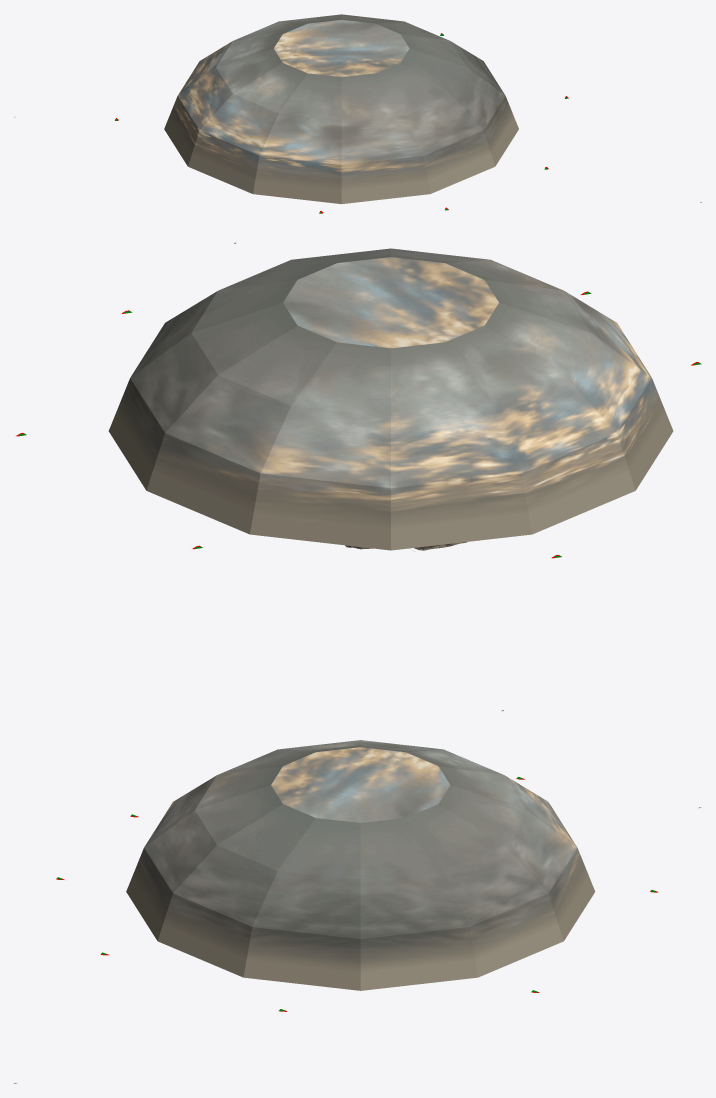
Rendered from recovered_map_mp6.glb.
The picture shows the model from 3 angles, top to bottom: view 1: azimuth 30°, elevation 25°; view 2: azimuth 150°, elevation 25°; view 3: azimuth 270°, elevation 25°; orthographic projection. The views are drawn at different scales.
Visible parts, largest first — view 1: S_gen_cloud_n_sun_256x256; view 2: S_gen_cloud_n_sun_256x256; view 3: S_gen_cloud_n_sun_256x256.
Boxes of the visible parts, x1,y1,x2,y2 form: S_gen_cloud_n_sun_256x256: (164, 14, 518, 204); S_gen_cloud_n_sun_256x256: (108, 248, 673, 550); S_gen_cloud_n_sun_256x256: (126, 740, 595, 990).
Size of what is drawn, in the model's own units: 564 by 147 by 593.
Materials: 48 (48 with a texture image).
